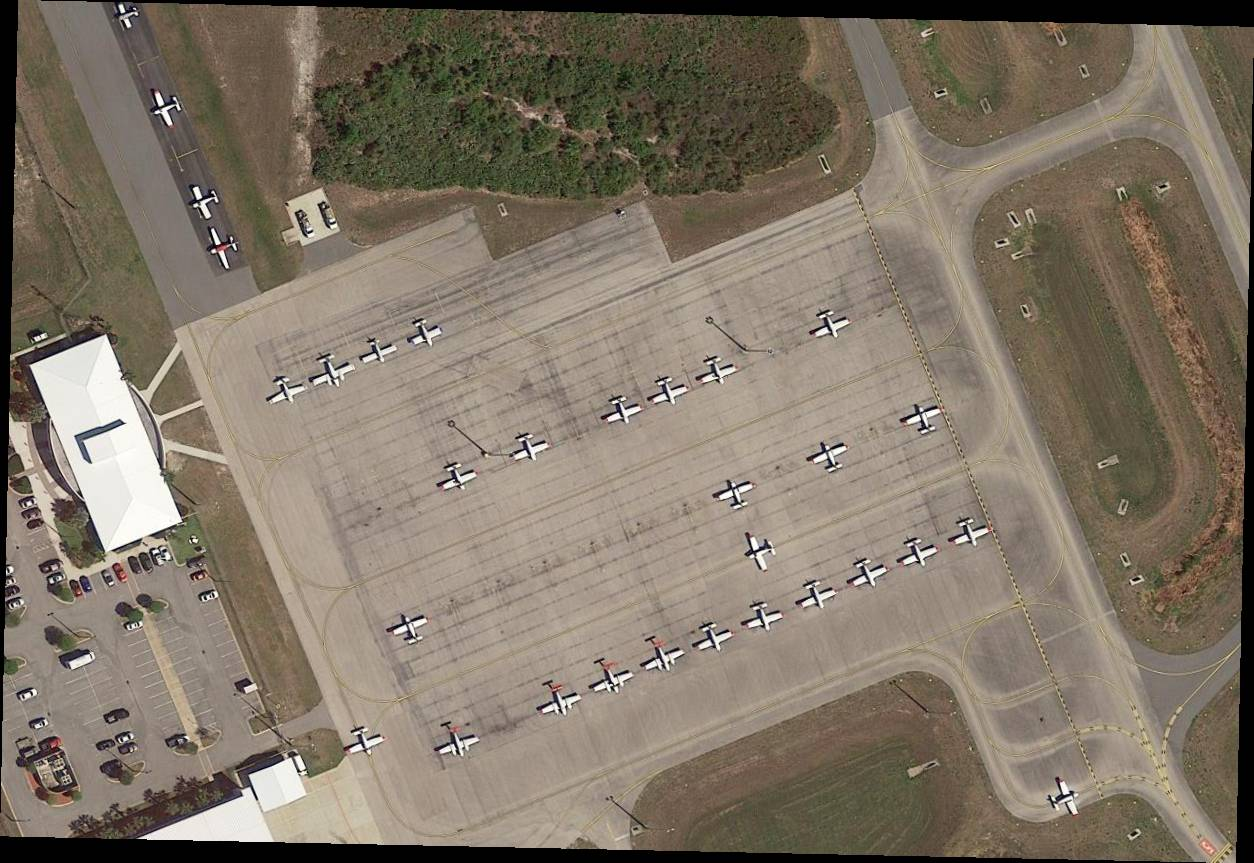large vehicle: (317, 201, 344, 232), (63, 649, 95, 672), (295, 209, 318, 241), (291, 753, 310, 777)
plane: (307, 348, 359, 395), (637, 633, 690, 679), (201, 222, 244, 274), (947, 511, 995, 556), (589, 658, 638, 702), (434, 722, 483, 765), (536, 681, 586, 723), (388, 608, 435, 651), (808, 303, 854, 346), (895, 531, 941, 574), (263, 370, 310, 412), (341, 721, 389, 762), (146, 88, 188, 134), (691, 617, 738, 658), (847, 553, 893, 594), (901, 399, 947, 440), (695, 351, 741, 392), (741, 529, 780, 577), (715, 475, 761, 515), (808, 438, 854, 478), (646, 371, 692, 411), (1045, 777, 1085, 823), (742, 598, 787, 638), (507, 428, 552, 468), (185, 178, 225, 223), (796, 576, 841, 615), (601, 391, 644, 431), (436, 459, 480, 498), (356, 332, 399, 370), (405, 314, 445, 353), (114, 1, 145, 32)
small vehicle: (165, 731, 192, 752), (102, 710, 130, 728), (111, 562, 131, 587), (97, 758, 123, 777), (146, 547, 166, 571), (39, 735, 63, 753), (17, 687, 40, 705), (92, 738, 116, 755), (40, 559, 64, 576), (29, 716, 51, 734), (118, 740, 139, 758), (186, 555, 208, 572), (101, 568, 117, 591), (189, 567, 209, 585), (197, 588, 218, 605), (123, 618, 145, 634), (127, 555, 143, 577), (68, 578, 83, 601), (138, 552, 154, 573), (23, 507, 44, 523), (114, 731, 135, 746), (46, 572, 66, 587), (26, 518, 44, 533), (19, 496, 37, 511), (78, 576, 92, 594)
